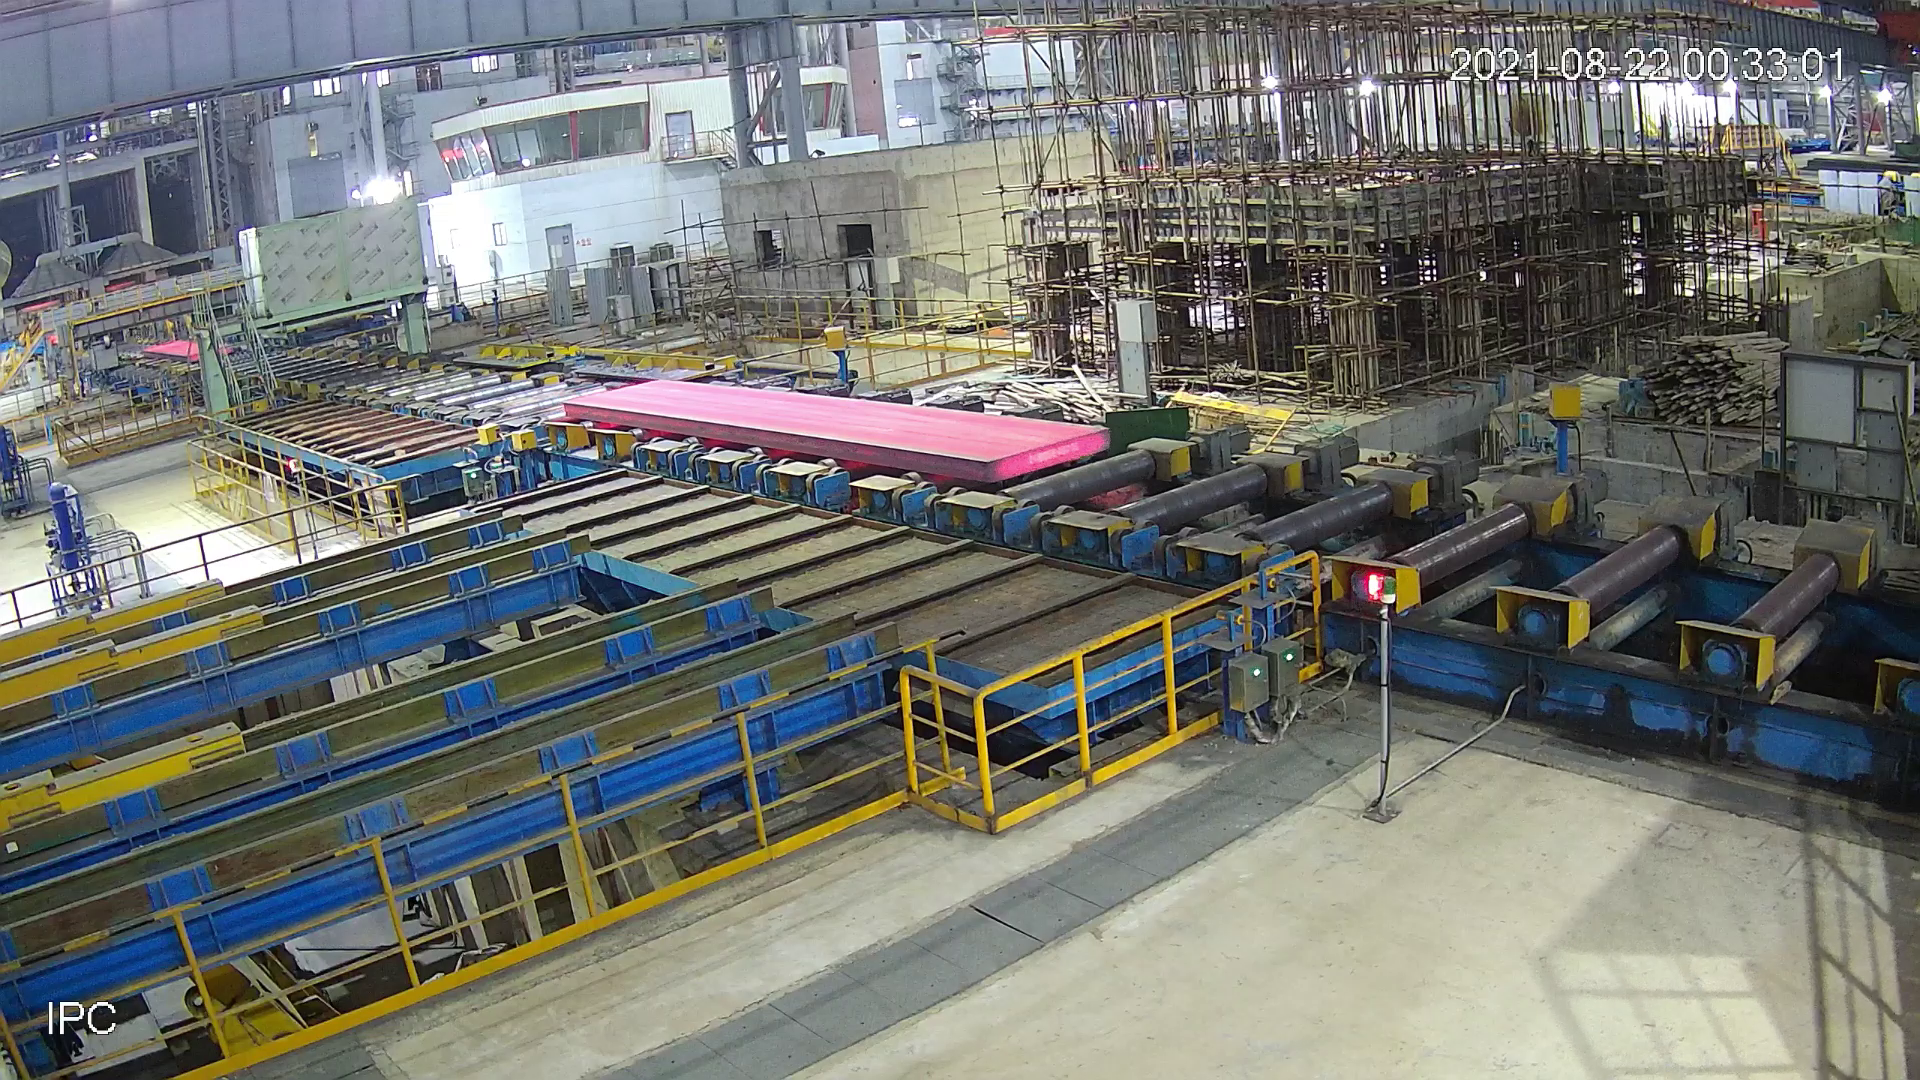slab: (560, 369, 1112, 483), (132, 335, 218, 369)
